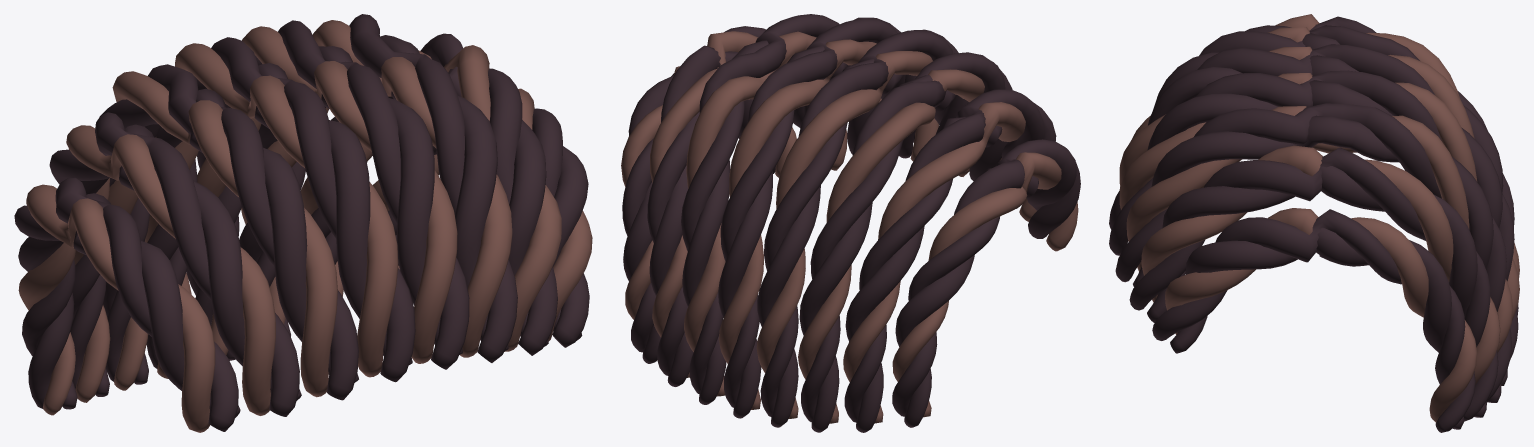
File: studio_cornrows_default.glb
The picture shows the model from 3 angles, left to right: view 1: azimuth 30°, elevation 25°; view 2: azimuth 150°, elevation 25°; view 3: azimuth 270°, elevation 25°; orthographic projection. The views are drawn at different scales.
Visible parts, largest first — view 1: cornrows; view 2: cornrows; view 3: cornrows.
Boxes of the visible parts, left/top/right/bottom form: cornrows: left=14, top=14, right=592, bottom=432; cornrows: left=621, top=14, right=1080, bottom=432; cornrows: left=1109, top=14, right=1519, bottom=432.
Bounding box in the file's own units: 0.4313 × 0.3362 × 0.3946.
